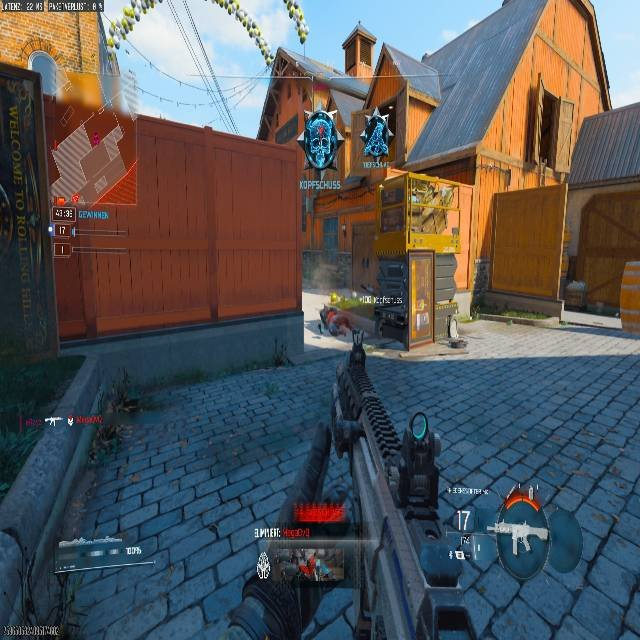player: (362, 114, 390, 164)
